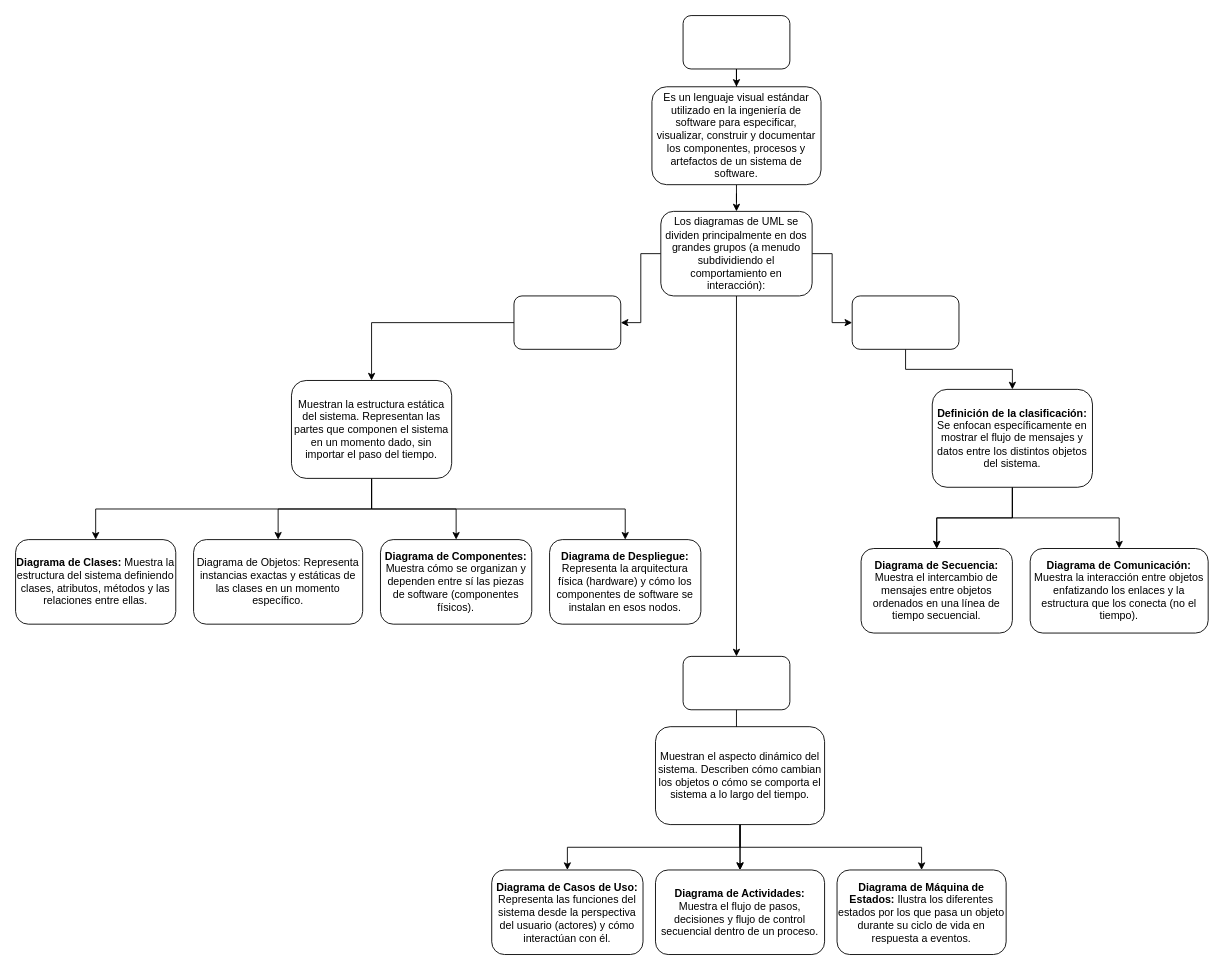
The diagram is 1224 pixels wide and 970 high, and some of its shapes have lost their labels. The shapes that lost their labels are listed below. From the top down, each one's centre as x and y in pixels, then its label:
At [736,42]: "UML (Lenguaje de Modelado Unificado)".
At [567,322]: "1. Diagramas Estructurales".
At [905,322]: "3. Diagramas de Interacción (Sub-clasificación del Comportamiento)".
At [736,682]: "2. Diagramas de Comportamiento".
